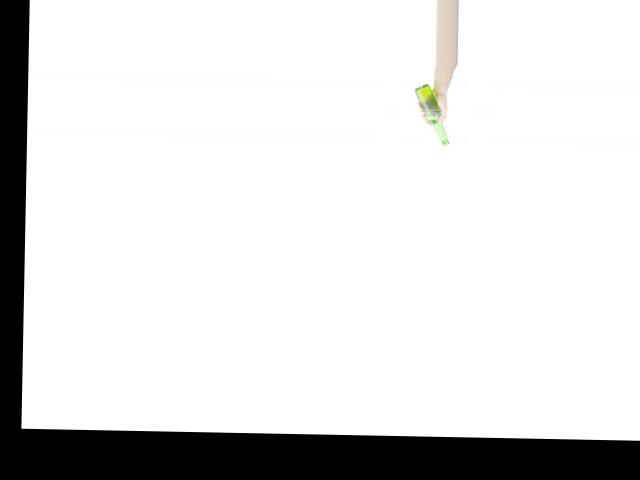beer: (413, 84, 451, 145)
